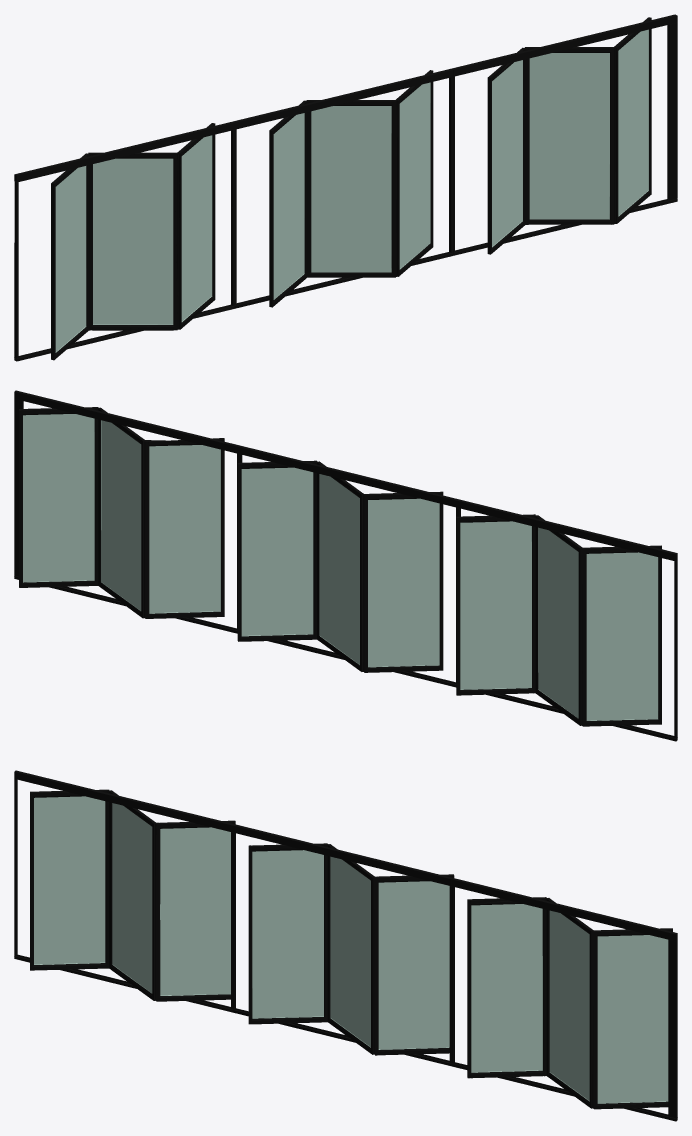
The model's file is windows 1.FBX.
The picture shows the model from 3 angles, top to bottom: view 1: azimuth 30°, elevation 25°; view 2: azimuth 150°, elevation 25°; view 3: azimuth 330°, elevation 25°; orthographic projection.
Visible parts, largest first — view 1: windows 1; view 2: windows 1; view 3: windows 1.
Part boxes in pixels (bbox=[...]): windows 1: bbox=[14, 14, 677, 361]; windows 1: bbox=[14, 390, 677, 741]; windows 1: bbox=[14, 770, 677, 1121].
Bounding box in the file's own units: 781 × 210 × 50.2.
